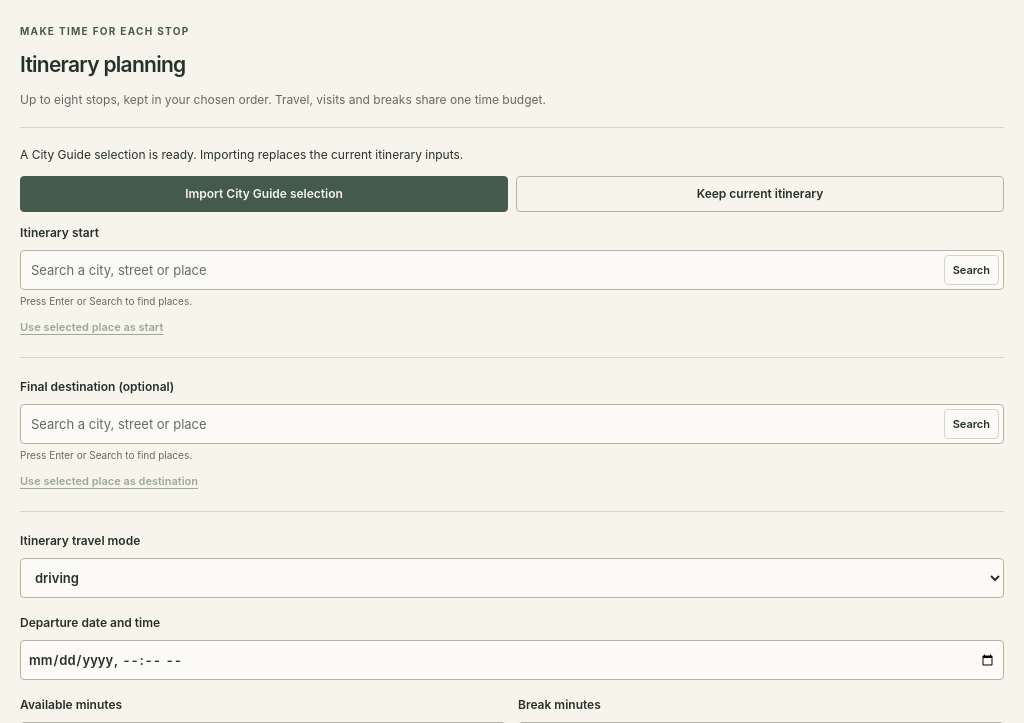
Test: requires confirmation before importing a City Guide and preserves its order, duration and budget
Expected: the dropdown labelled "Itinerary start" is empty, top-left (21, 252), bottom-right (944, 290)
Click the button "Import City Guide selection": (264, 194) top-left (20, 176), bottom-right (508, 212)
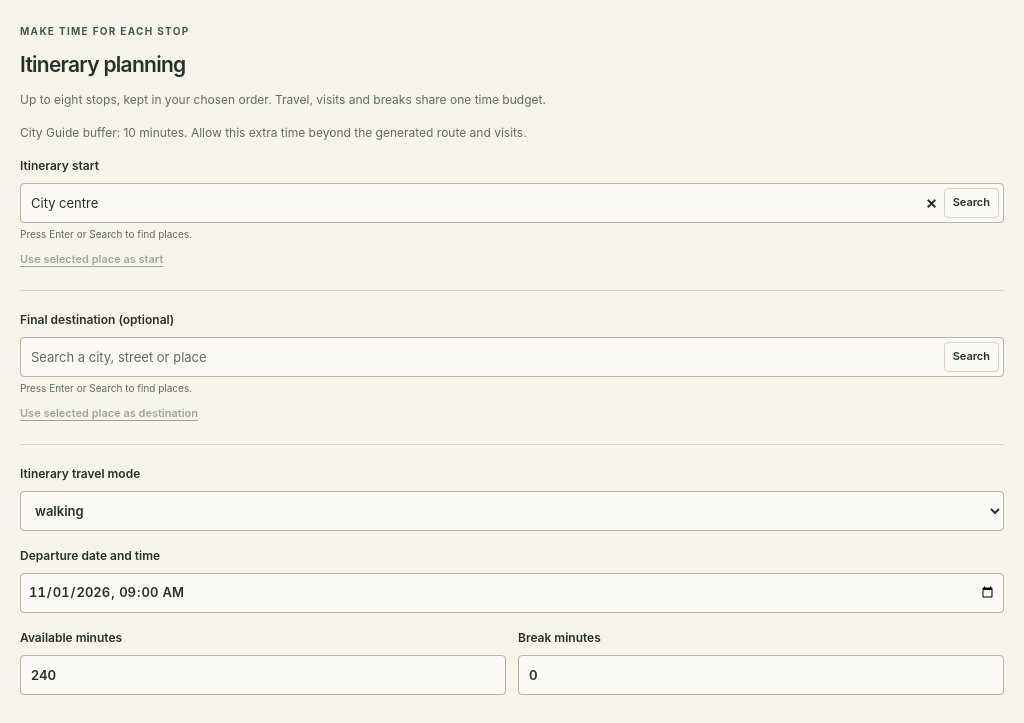
Result: the number field labelled "Available minutes" holds "240" at top-left (20, 655), bottom-right (506, 695)
Result: the dropdown labelled "Itinerary travel mode" shows "walking" at top-left (20, 491), bottom-right (1004, 531)
